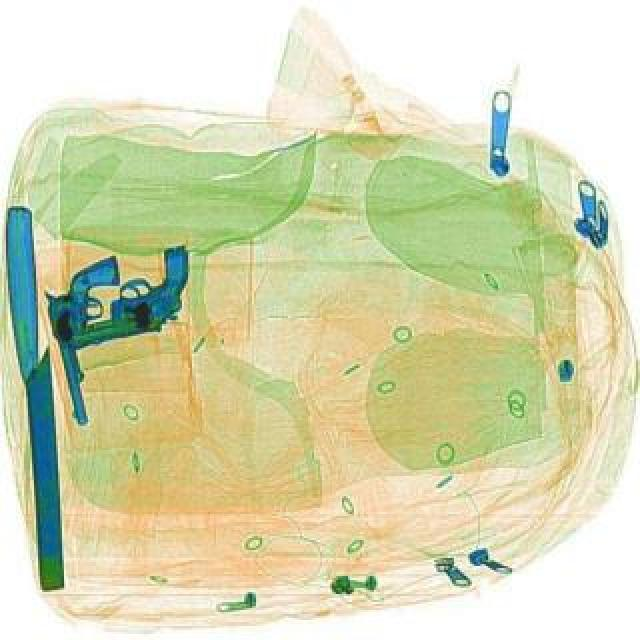gun: (30, 250, 156, 426), (50, 240, 206, 350)
knife: (0, 202, 68, 590)
